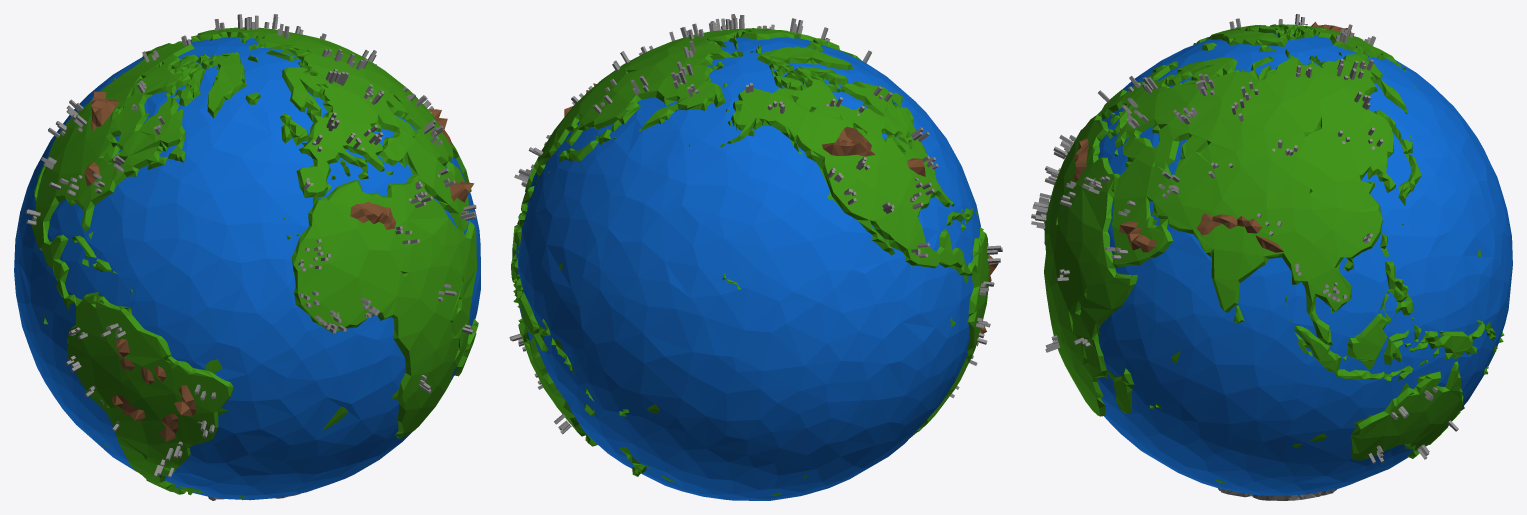
Rendered from earth.glb.
3 renders of one model, left to right at view 1: azimuth 30°, elevation 25°; view 2: azimuth 150°, elevation 25°; view 3: azimuth 270°, elevation 25°, orthographic.
Parts seen in each view (by area): view 1: ocean, land, towns, GeoSphere006, GeoSphere005; view 2: ocean, land, towns, GeoSphere006; view 3: ocean, land, towns, GeoSphere004, GeoSphere005, ice.
Boxes of the visible parts, x1,y1,x2,y2 form: ocean: (14, 37, 480, 500); land: (32, 27, 478, 500); towns: (25, 14, 476, 477); GeoSphere006: (84, 91, 196, 442); GeoSphere005: (350, 178, 474, 229); ocean: (516, 37, 980, 500); land: (511, 28, 989, 495); towns: (509, 14, 1002, 434); GeoSphere006: (822, 126, 998, 281); ocean: (1080, 34, 1512, 495); land: (1043, 24, 1504, 482); towns: (1031, 14, 1458, 464); GeoSphere004: (1197, 213, 1283, 252); GeoSphere005: (1073, 138, 1156, 252); ice: (1218, 481, 1356, 500).
Bounding box in the file's own units: 2.04 × 2.06 × 2.06.
